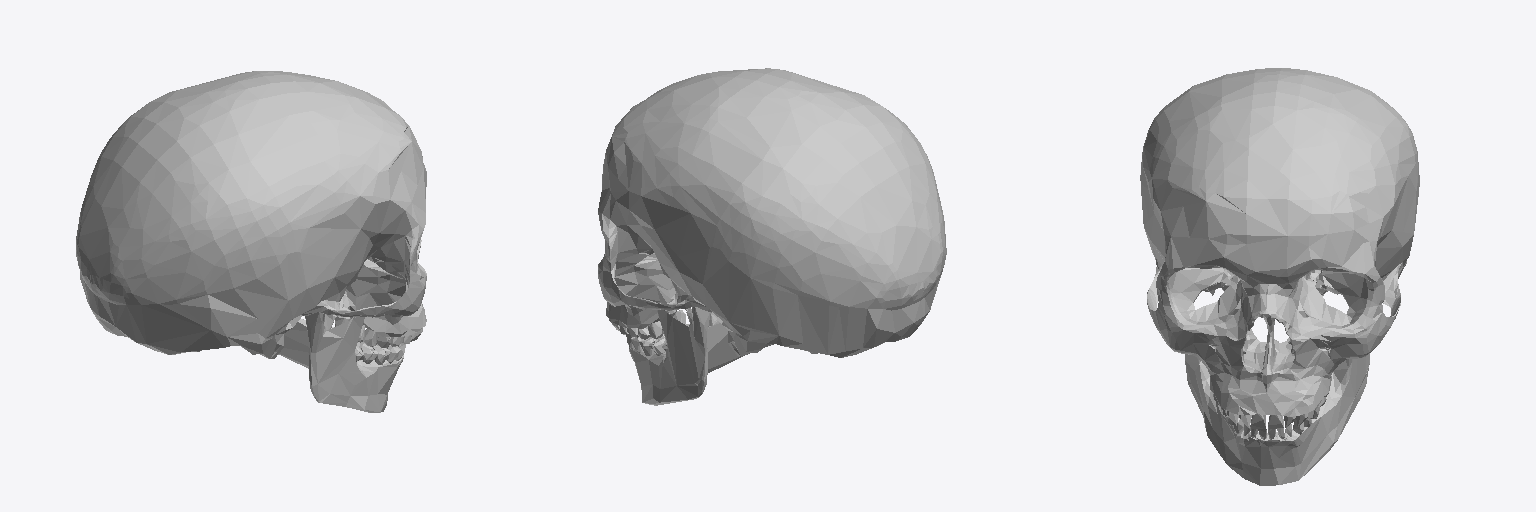
The model's file is Skull.obj.
3 renders of one model, left to right at view 1: azimuth 30°, elevation 25°; view 2: azimuth 150°, elevation 25°; view 3: azimuth 270°, elevation 25°, orthographic.
Visible parts, largest first — view 1: Skull_Uperskull_SKULL, Skull_Lower_skull_skull2, Skull_Lower_skull_teeth1, Skull_Uperskull_teeth; view 2: Skull_Uperskull_SKULL, Skull_Lower_skull_skull2, Skull_Lower_skull_teeth1; view 3: Skull_Uperskull_SKULL, Skull_Lower_skull_skull2, Skull_Uperskull_teeth, Skull_Lower_skull_teeth1.
Part boxes in pixels (x1,y1,x2,y2): Skull_Uperskull_SKULL: (76,71,426,358); Skull_Lower_skull_skull2: (278,312,403,412); Skull_Lower_skull_teeth1: (323,313,405,364); Skull_Uperskull_teeth: (358,325,422,347); Skull_Uperskull_SKULL: (598,68,946,357); Skull_Lower_skull_skull2: (629,303,773,405); Skull_Lower_skull_teeth1: (626,309,717,355); Skull_Uperskull_SKULL: (1140,68,1419,416); Skull_Lower_skull_skull2: (1185,353,1369,485); Skull_Uperskull_teeth: (1222,408,1315,429); Skull_Lower_skull_teeth1: (1221,399,1326,439).
Size of the model in its own units: 2.01 by 2.04 by 1.51.